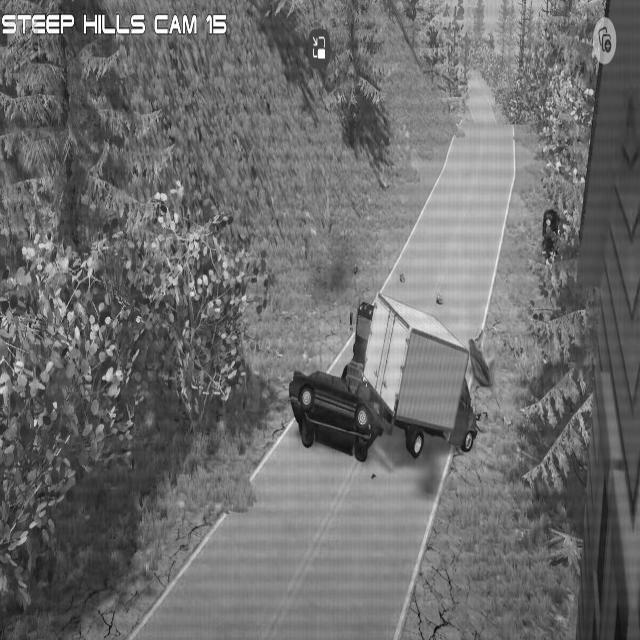accident: (288, 288, 479, 474)
